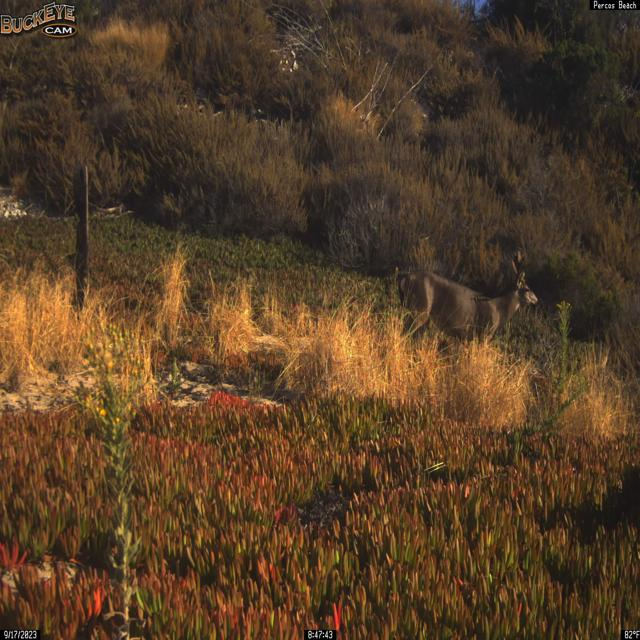deer: (398, 250, 539, 353)
